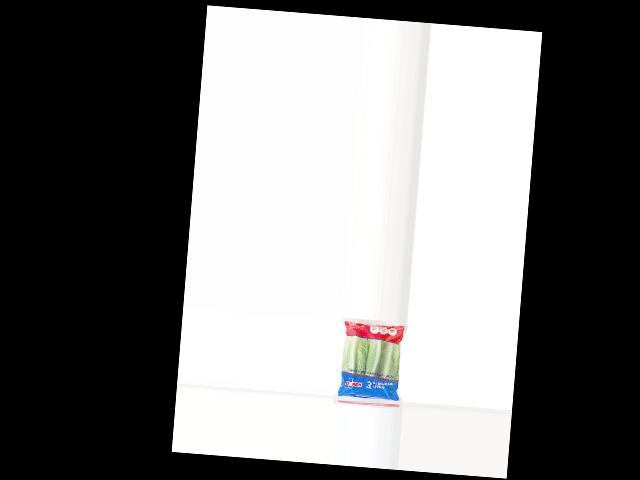lettuce: (336, 317, 406, 402)
